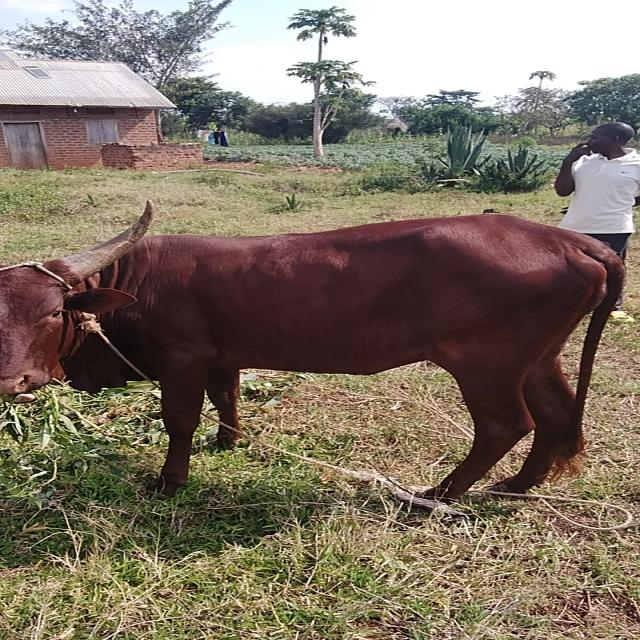Left: (0, 201, 624, 499)
